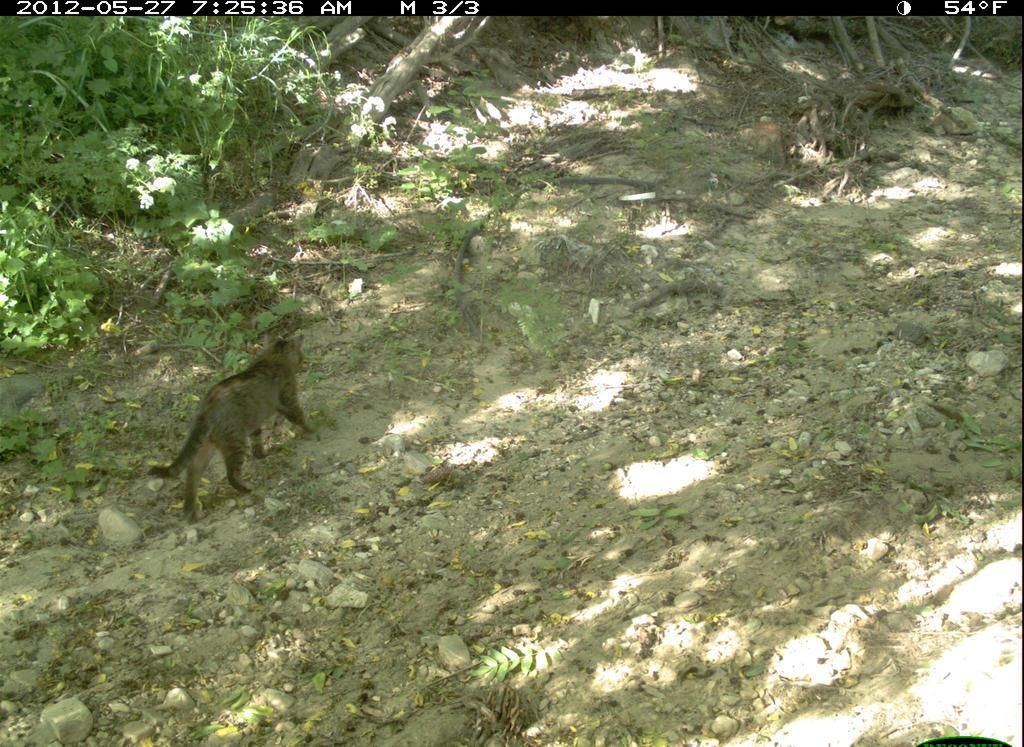cat: (145, 328, 313, 527)
